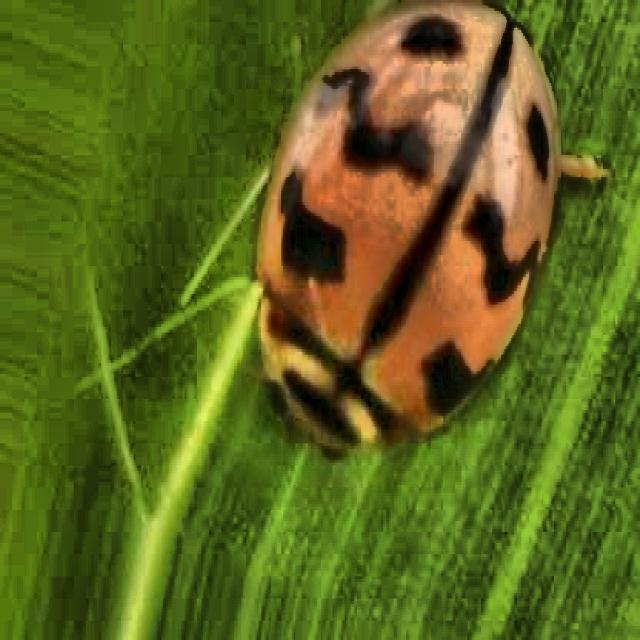Asian-Lady-beetle: (219, 3, 621, 566)
